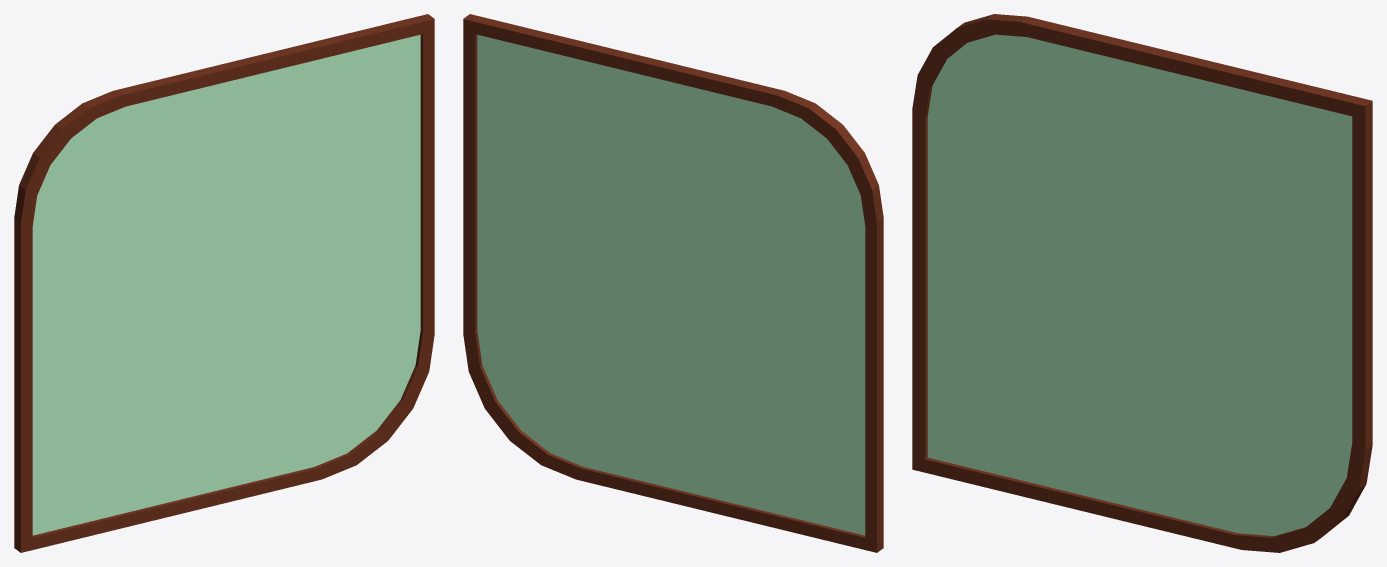
File: display.glb
The picture shows the model from 3 angles, left to right: view 1: azimuth 30°, elevation 25°; view 2: azimuth 150°, elevation 25°; view 3: azimuth 330°, elevation 25°; orthographic projection. The views are drawn at different scales.
Visible parts, largest first — view 1: display, borders; view 2: display, borders; view 3: display, borders.
Boxes of the visible parts, x1=… form: display: x1=32, y1=34, x2=420, y2=535; borders: x1=14, y1=14, x2=434, y2=552; display: x1=477, y1=34, x2=865, y2=535; borders: x1=463, y1=14, x2=883, y2=552; display: x1=927, y1=34, x2=1352, y2=535; borders: x1=912, y1=14, x2=1372, y2=552.
Bounding box in the file's own units: 2.12 × 2.12 × 0.06.
